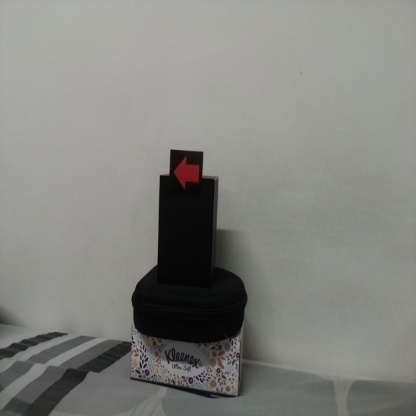id_4: (168, 150, 204, 196)
